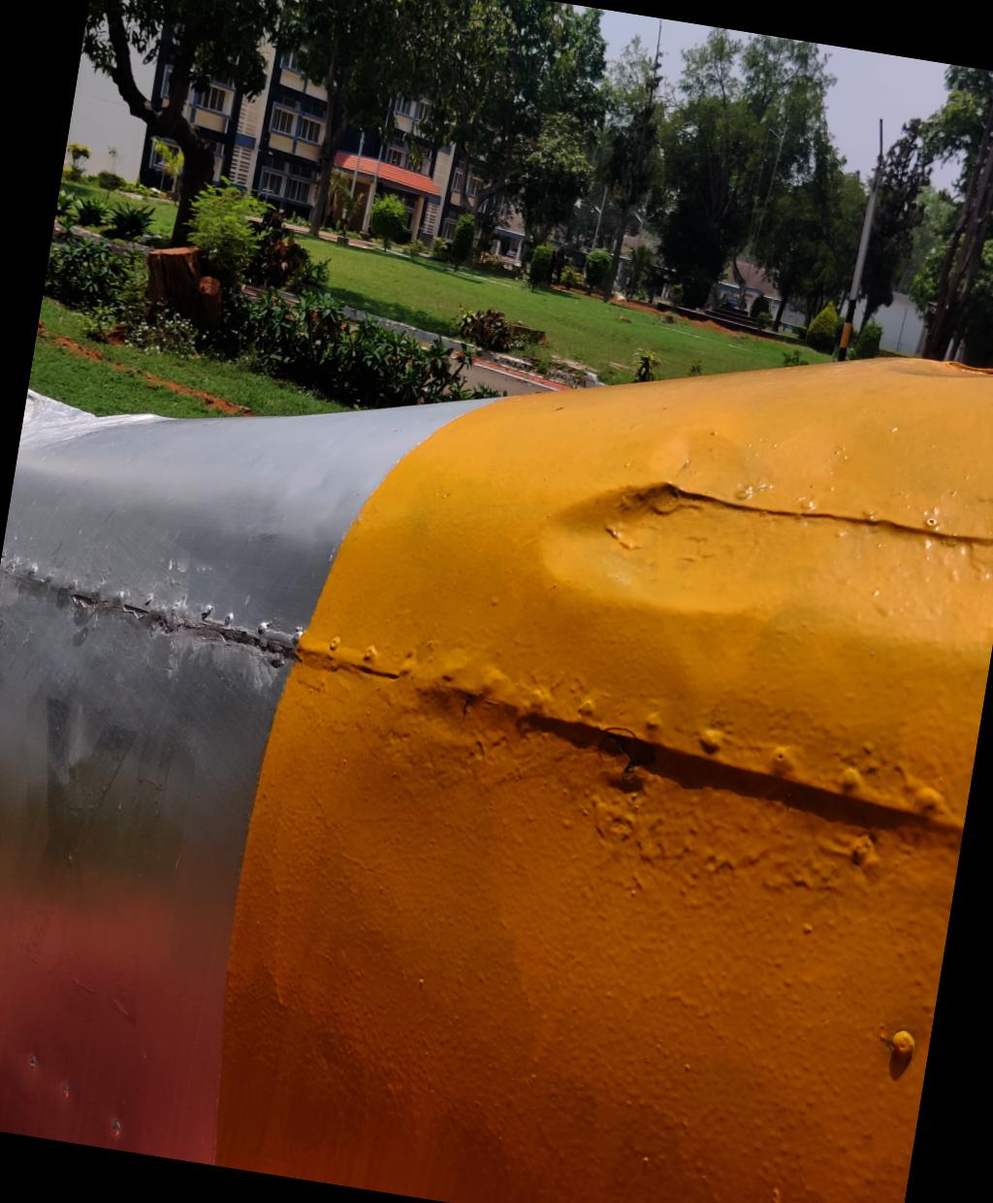dent: (482, 370, 844, 678)
